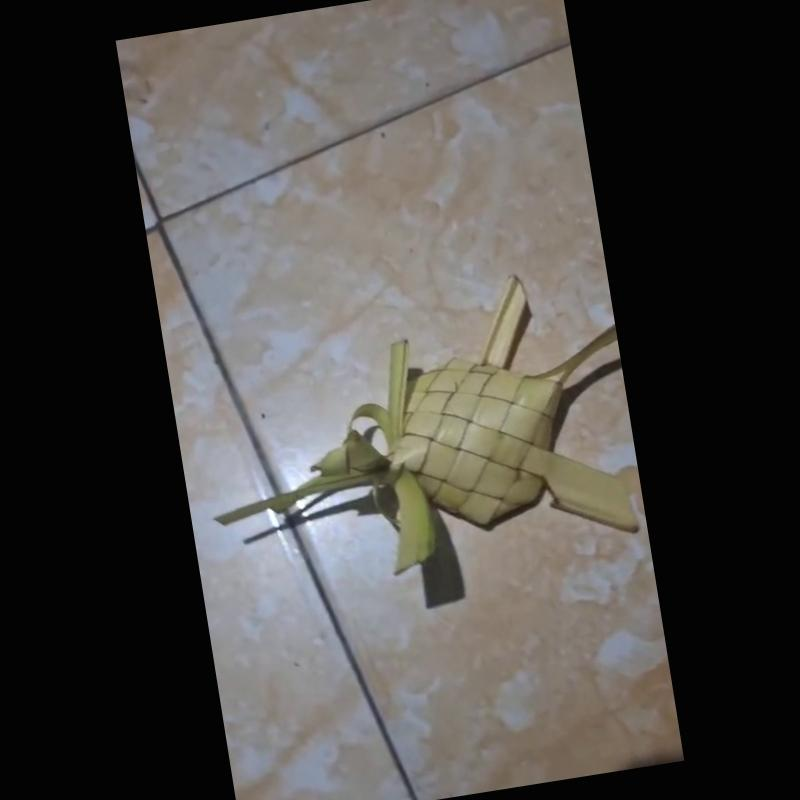Tipat Dampulan: (212, 269, 641, 582)
